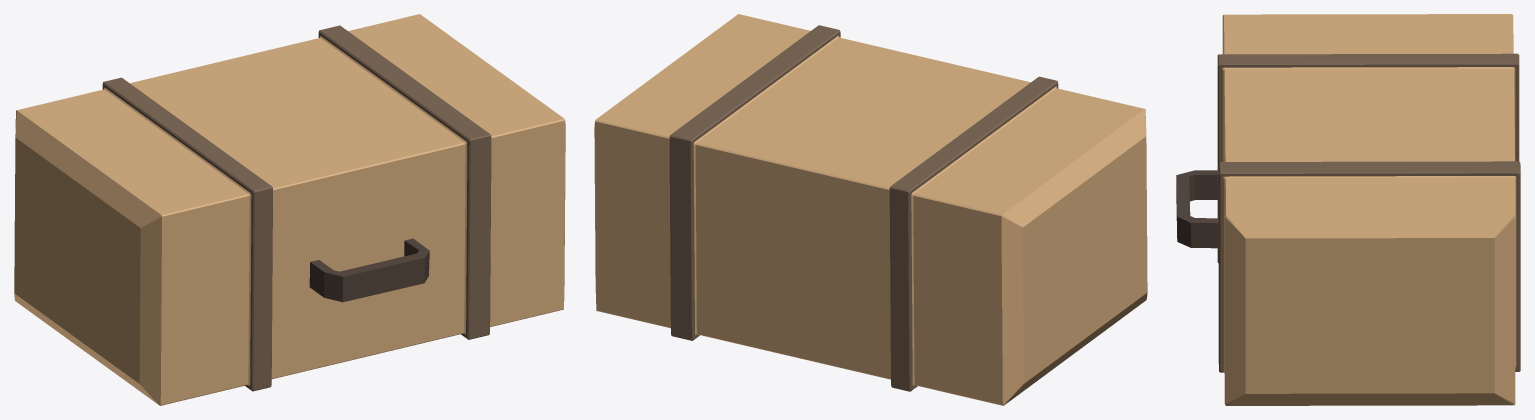
The model's file is Suitcase_5.fbx.
3 renders of one model, left to right at view 1: azimuth 30°, elevation 25°; view 2: azimuth 150°, elevation 25°; view 3: azimuth 270°, elevation 25°, orthographic.
Parts seen in each view (by area): view 1: Suitcase_5; view 2: Suitcase_5; view 3: Suitcase_5.
Boxes of the visible parts, x1,y1,x2,y2 form: Suitcase_5: (14, 14, 565, 405); Suitcase_5: (594, 14, 1147, 405); Suitcase_5: (1176, 14, 1520, 405).
Bounding box in the file's own units: 138 × 95.77 × 62.3.
